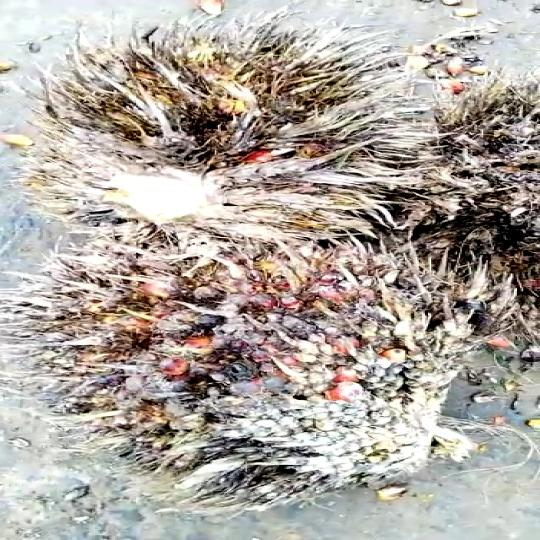terlalu masak: (25, 226, 499, 498), (0, 26, 416, 240)
